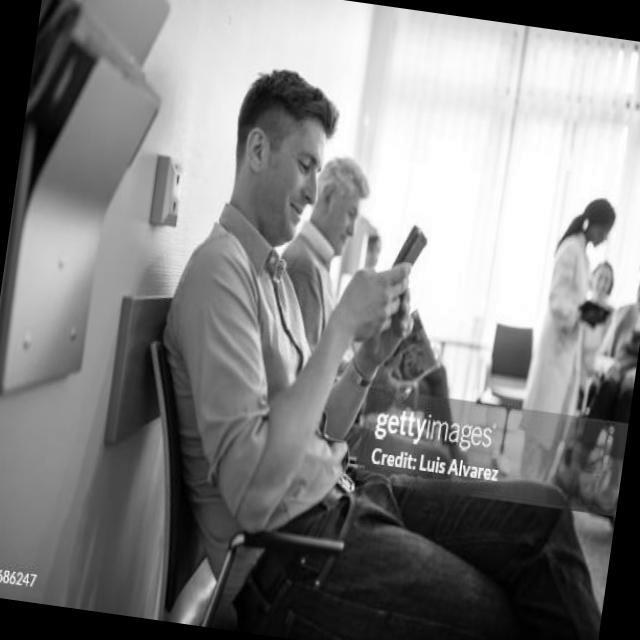phone: (390, 222, 430, 274)
